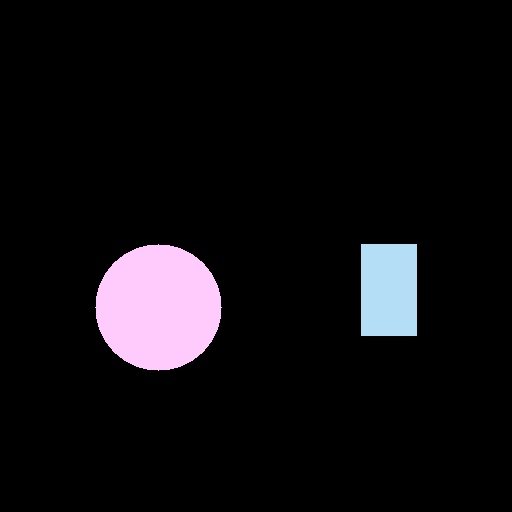circle: (95, 244, 221, 370)
rectangle: (361, 244, 416, 335)
